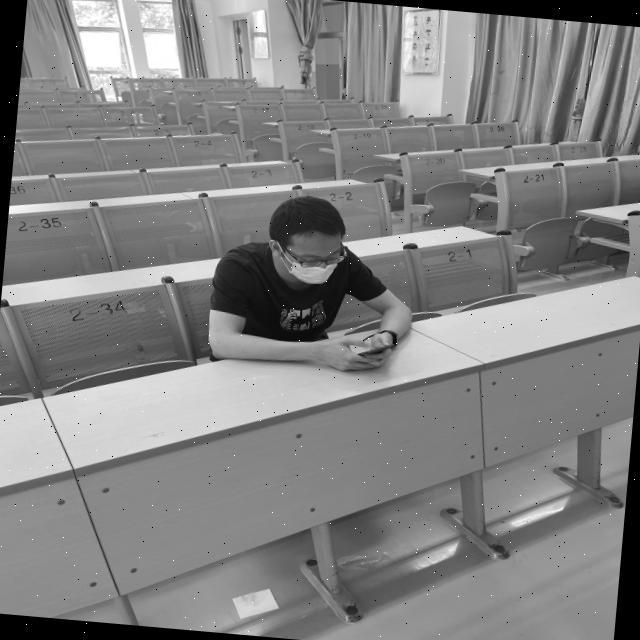phone: (207, 190, 422, 377)
